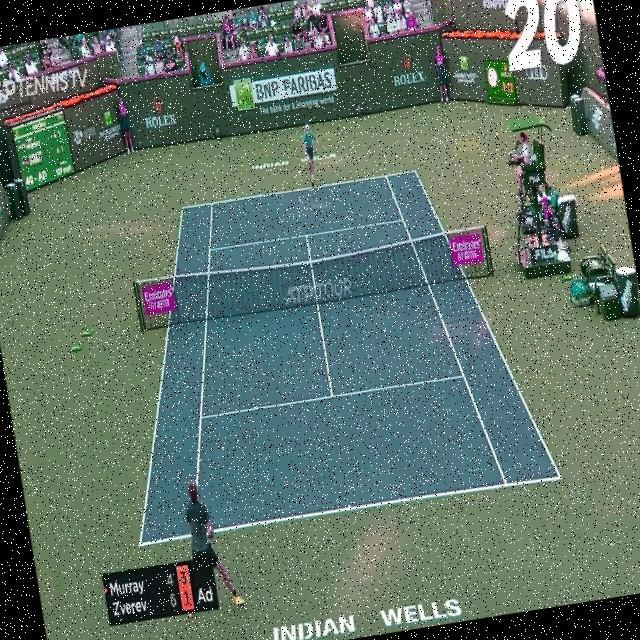court: (87, 154, 564, 547)
net: (132, 224, 496, 334)
player: (179, 472, 247, 614)
